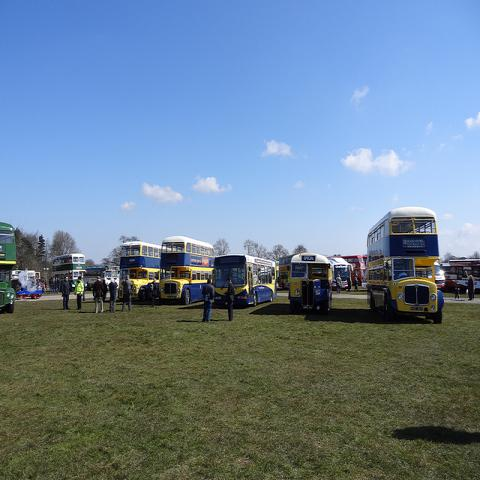bus: (365, 206, 444, 324), (157, 237, 215, 306), (214, 257, 280, 309), (288, 252, 333, 313), (118, 241, 162, 303), (1, 222, 17, 311), (50, 253, 86, 292), (449, 258, 479, 289), (84, 266, 120, 290), (278, 252, 300, 290), (329, 257, 354, 287), (340, 256, 365, 285)
